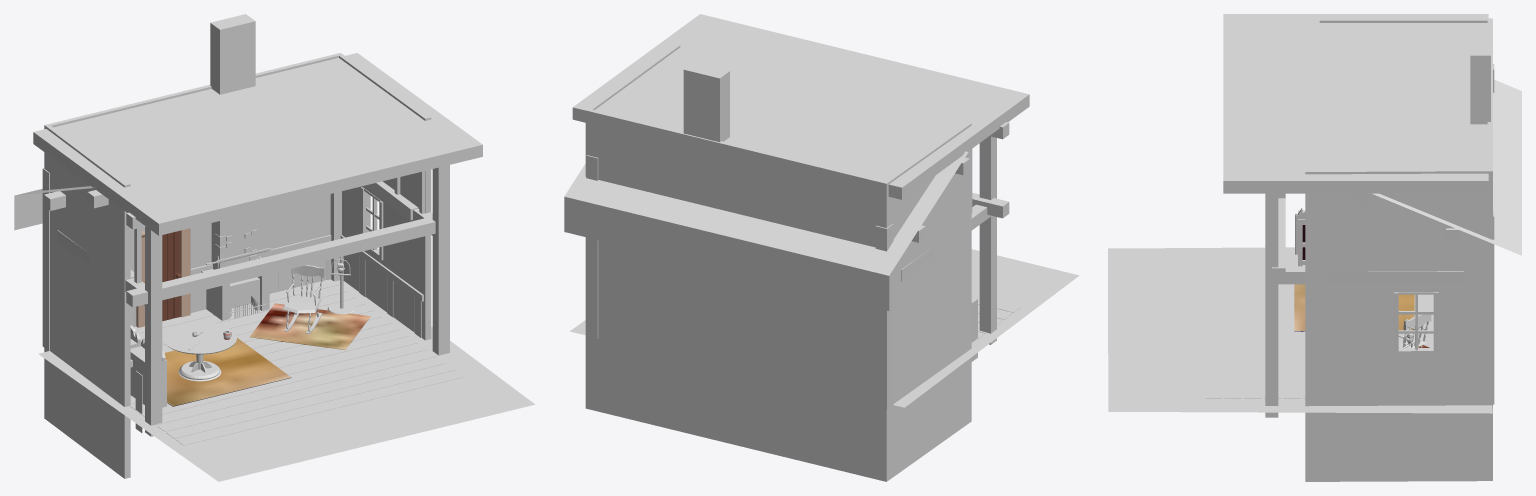
File: livingroom_withUV3.fbx
3 renders of one model, left to right at view 1: azimuth 30°, elevation 25°; view 2: azimuth 150°, elevation 25°; view 3: azimuth 270°, elevation 25°, orthographic. The views are drawn at different scales.
Visible parts, largest first — view 1: roof, structure, structure.002, Cube.008, structure.006, fireplace, 平面, 平面.001, desk, Cylinder.003, structure.005, 立方体 (+4 smaller); view 2: structure, roof, structure.006, structure.002, structure.005, fireplace; view 3: structure, roof, structure.002, structure.006, Cube.008, fireplace, 平面, Cube.007, Cube.009, structure.005.
Boxes of the visible parts, x1,y1,x2,y2 form: roof: (33, 53, 482, 235); structure: (44, 53, 431, 478); structure.002: (38, 280, 534, 481); Cube.008: (130, 279, 464, 445); structure.006: (14, 165, 449, 436); fireplace: (201, 14, 269, 320); 平面: (164, 338, 291, 406); 平面.001: (250, 303, 370, 349); desk: (162, 322, 236, 381); Cylinder.003: (136, 228, 190, 327); structure.005: (42, 168, 341, 350); 立方体: (134, 255, 421, 432); structure: (585, 44, 971, 481); roof: (572, 14, 1029, 199); structure.006: (564, 122, 1009, 344); structure.002: (569, 249, 1079, 407); structure.005: (586, 155, 893, 409); fireplace: (683, 62, 729, 142); structure: (1305, 17, 1492, 481); roof: (1223, 14, 1488, 193); structure.002: (1108, 247, 1492, 413); structure.006: (1265, 80, 1521, 417); Cube.008: (1205, 254, 1431, 398); fireplace: (1470, 37, 1490, 124); 平面: (1294, 284, 1414, 331); Cube.007: (1398, 310, 1431, 347); Cube.009: (1298, 208, 1305, 266); structure.005: (1493, 64, 1494, 404).
Bounding box in the file's own units: 1193 × 1236 × 1232.
